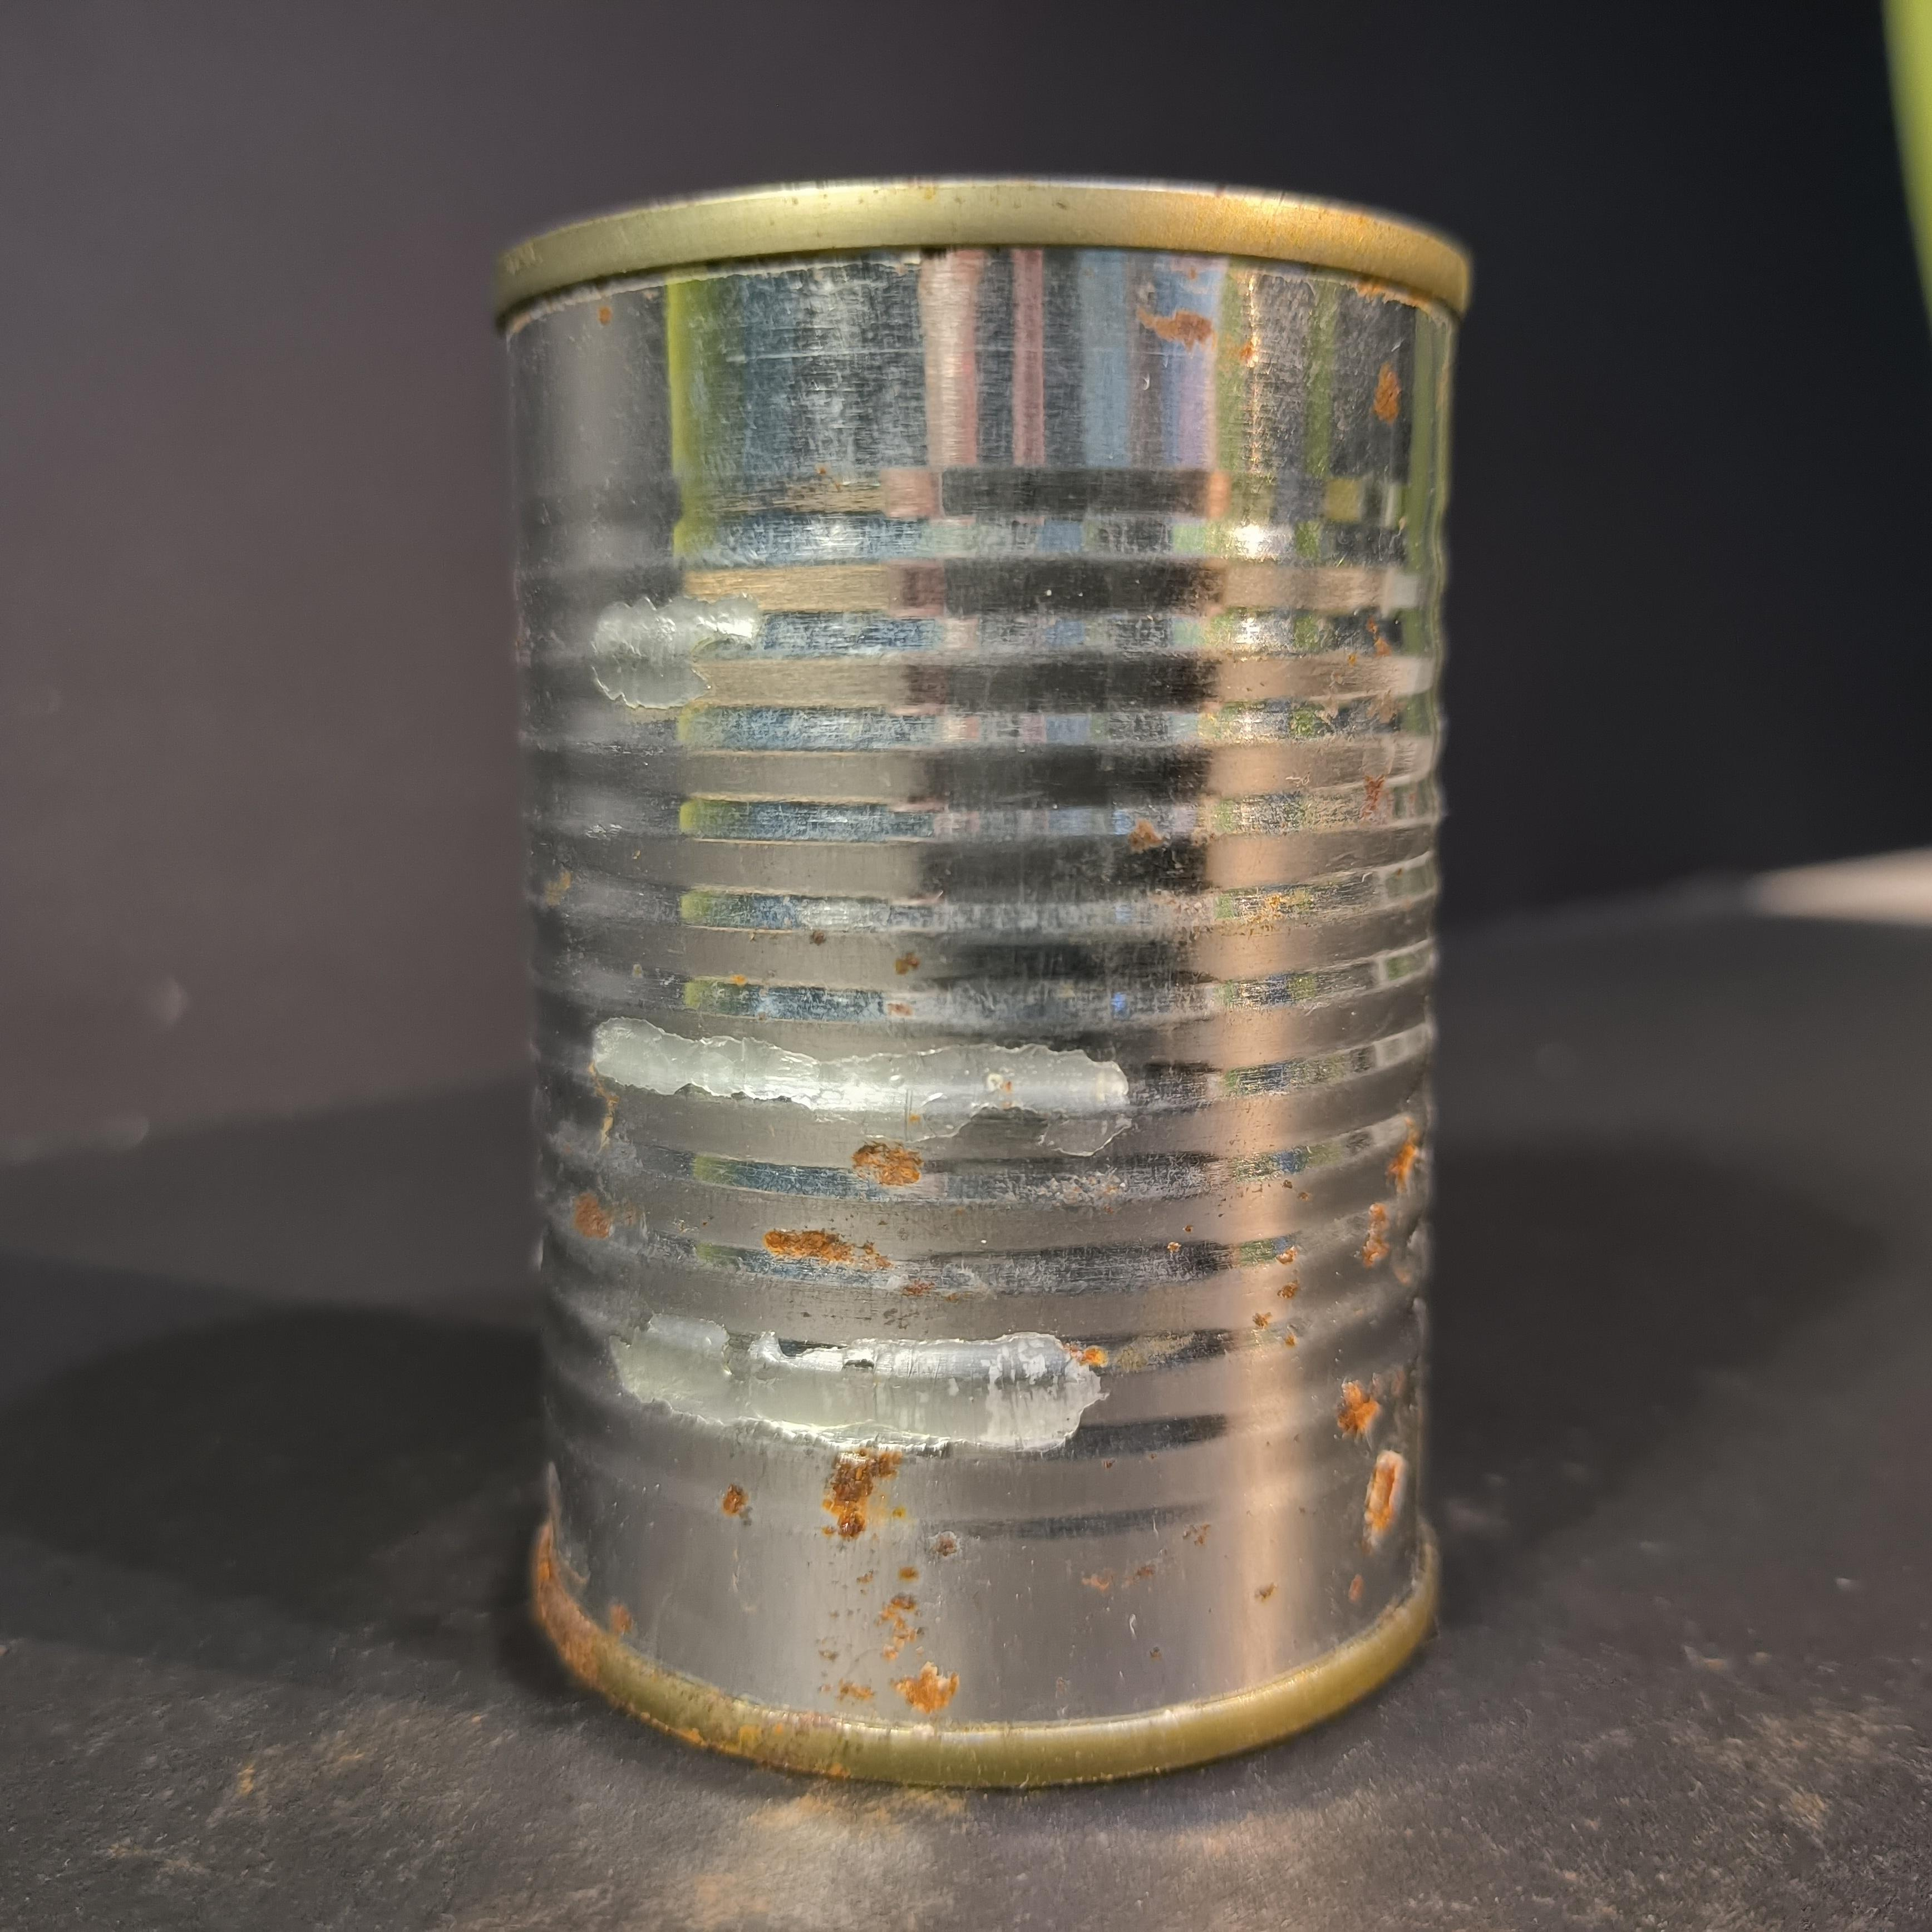Rusted: (481, 145, 1488, 1799)
